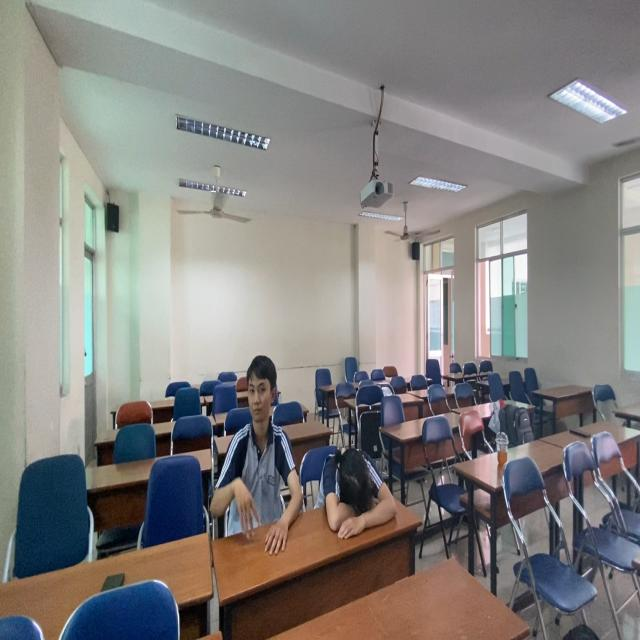sleep: (315, 441, 405, 538)
